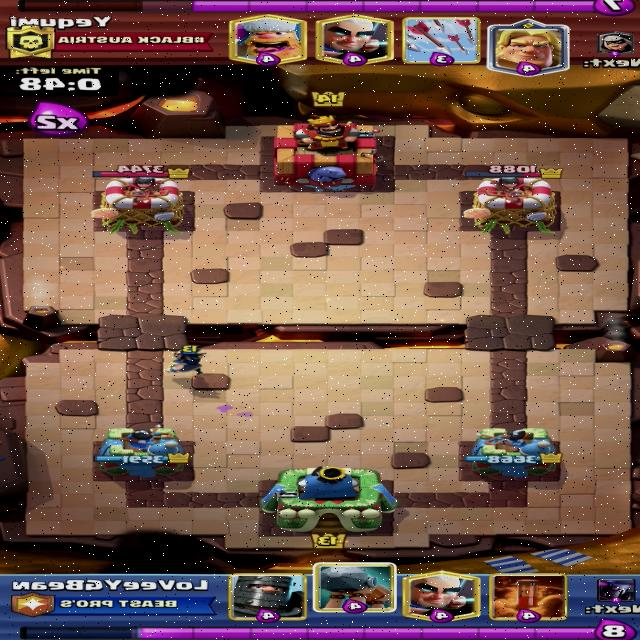Player-ElectroWizard: (169, 345, 206, 376)
